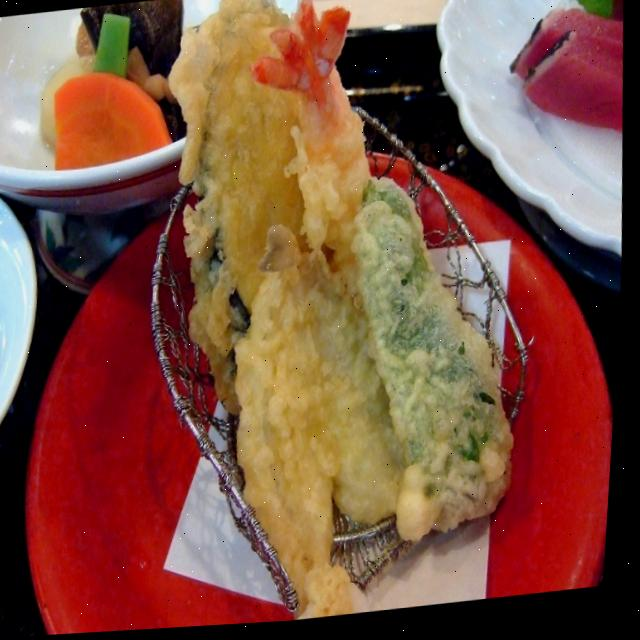蔬菜料理: (123, 0, 572, 633)
